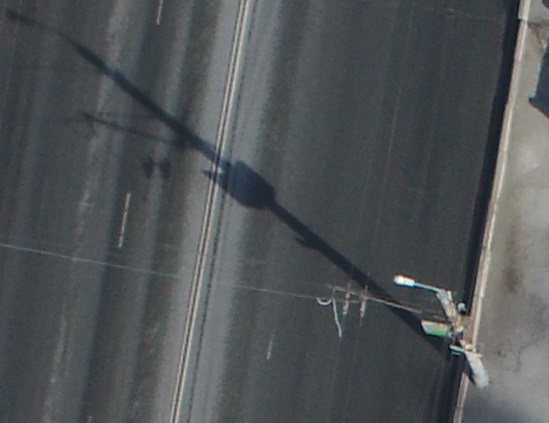opora: (378, 270, 492, 390)
